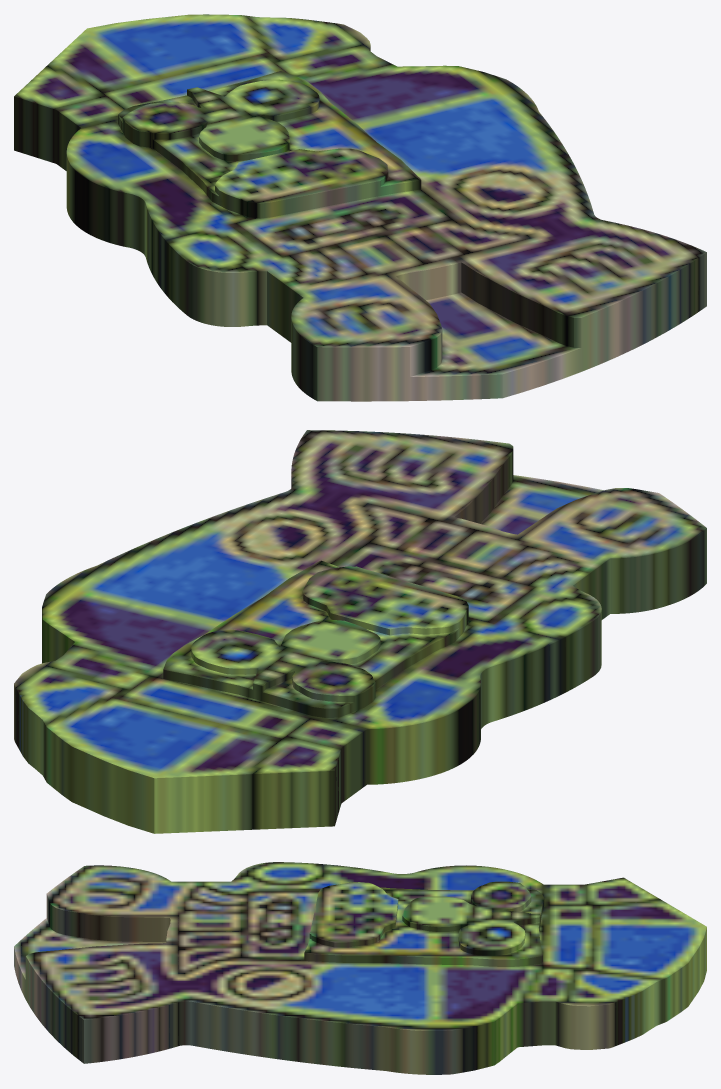
File: muro del agua 4.dae
3 views of the same model, one above another, from view 1: azimuth 30°, elevation 25°; view 2: azimuth 150°, elevation 25°; view 3: azimuth 270°, elevation 25° (orthographic). The views are drawn at different scales.
Parts seen in each view (by area): view 1: SketchUp (×2); view 2: SketchUp (×2); view 3: SketchUp (×2).
Boxes of the visible parts, x1,y1,x2,y2 form: SketchUp (×2): (14, 14, 706, 401); SketchUp (×2): (14, 430, 706, 833); SketchUp (×2): (14, 862, 706, 1074).
Size of the model in its own units: 9.3 by 16.11 by 1.44.
